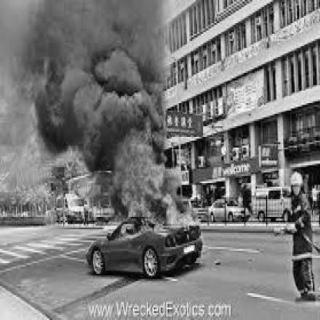Smoke: (4, 2, 166, 122), (46, 120, 104, 166)
other: (218, 63, 266, 111), (190, 153, 260, 183), (166, 109, 200, 137), (285, 164, 301, 184)
